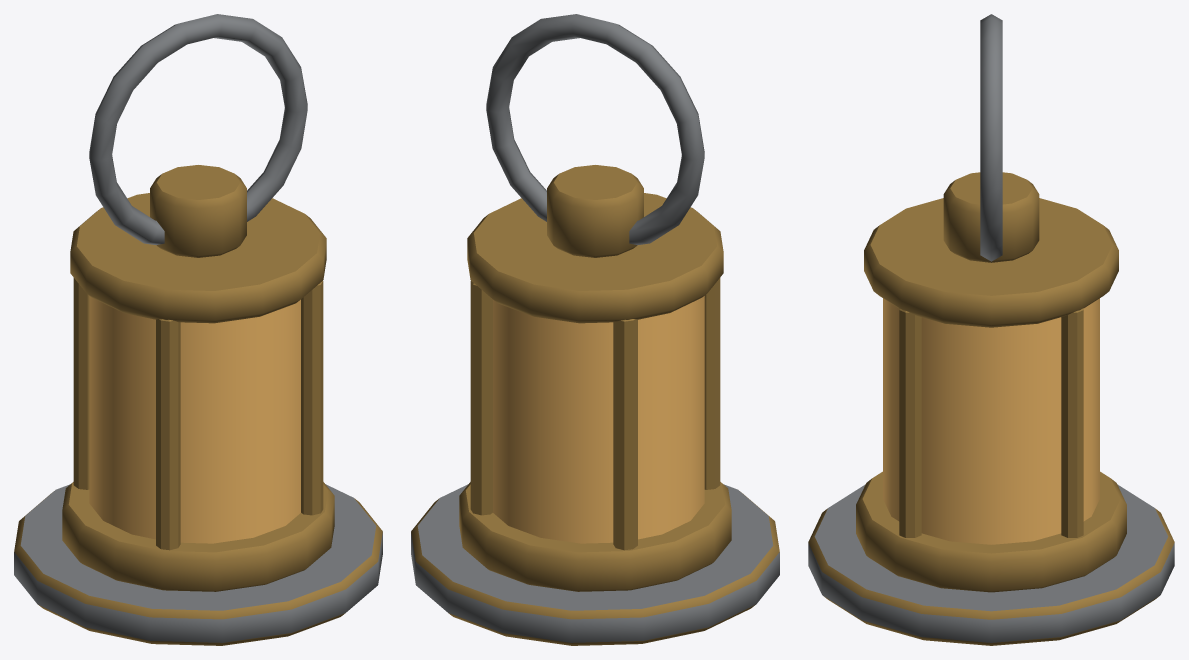
File: camp_lantern.fbx
3 views of the same model, side by side, from view 1: azimuth 30°, elevation 25°; view 2: azimuth 150°, elevation 25°; view 3: azimuth 270°, elevation 25° (orthographic).
Parts seen in each view (by area): view 1: Mesh_Lantern_Body, Mesh_Lantern_Glass, Mesh_Lantern_Handle; view 2: Mesh_Lantern_Body, Mesh_Lantern_Glass, Mesh_Lantern_Handle; view 3: Mesh_Lantern_Body, Mesh_Lantern_Glass, Mesh_Lantern_Handle.
Boxes of the visible parts, x1,y1,x2,y2 form: Mesh_Lantern_Body: (14, 165, 382, 645); Mesh_Lantern_Glass: (89, 296, 300, 543); Mesh_Lantern_Handle: (89, 14, 307, 245); Mesh_Lantern_Body: (411, 165, 779, 645); Mesh_Lantern_Glass: (493, 296, 704, 543); Mesh_Lantern_Handle: (486, 14, 704, 245); Mesh_Lantern_Body: (808, 172, 1174, 645); Mesh_Lantern_Glass: (883, 298, 1099, 544); Mesh_Lantern_Handle: (980, 14, 1002, 261).
Size of the model in its own units: 23 by 37.68 by 23.
